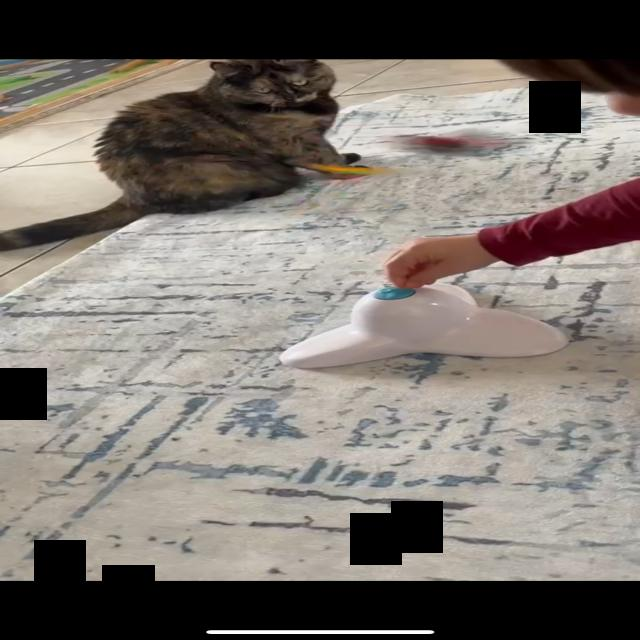authorized: (1, 58, 366, 252)
